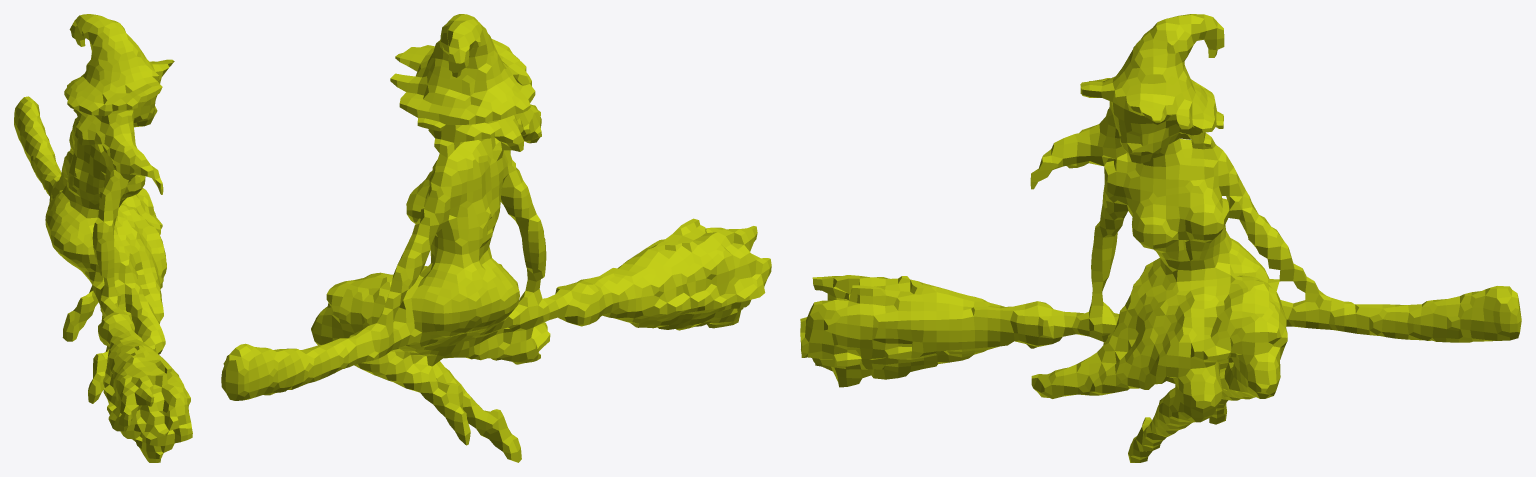
Rendered from sorciere.obj.
3 renders of one model, left to right at view 1: azimuth 30°, elevation 25°; view 2: azimuth 150°, elevation 25°; view 3: azimuth 270°, elevation 25°, orthographic. The views are drawn at different scales.
Visible parts, largest first — view 1: Pose2; view 2: Pose2; view 3: Pose2.
Part boxes in pixels (x1=…): Pose2: x1=14, y1=14, x2=192, y2=462; Pose2: x1=221, y1=14, x2=771, y2=462; Pose2: x1=800, y1=14, x2=1521, y2=462.
Bounding box in the file's own units: 18.04 × 30.85 × 43.43.
